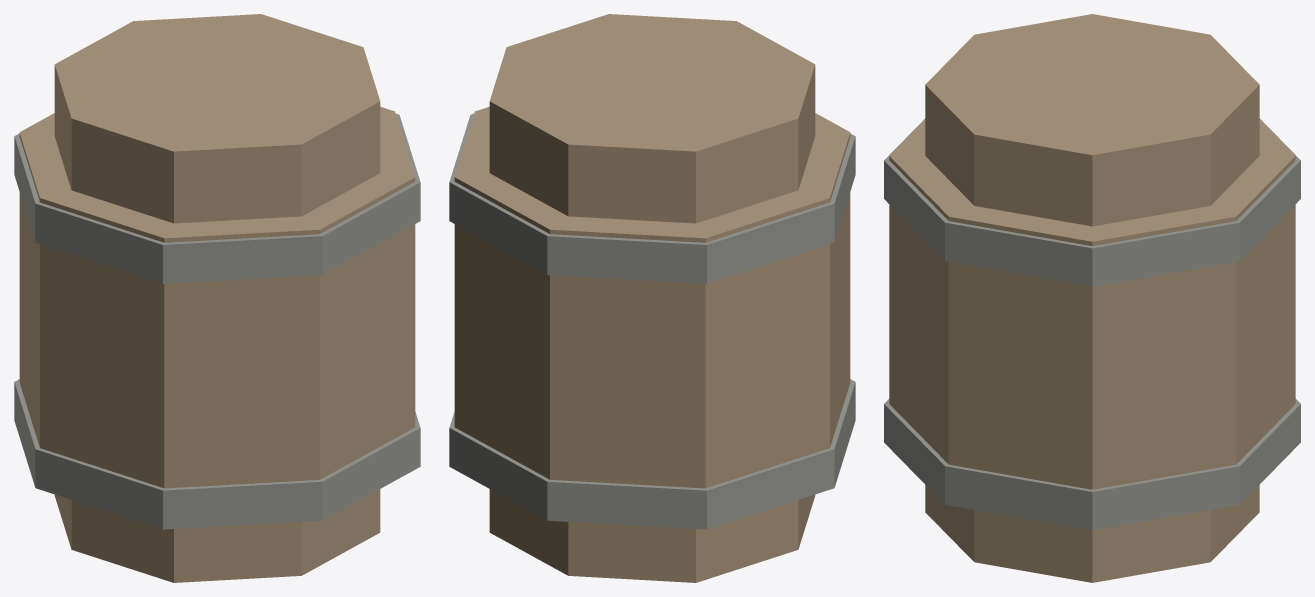
Rendered from barrel-small.glb.
3 views of the same model, side by side, from view 1: azimuth 30°, elevation 25°; view 2: azimuth 150°, elevation 25°; view 3: azimuth 270°, elevation 25° (orthographic).
Parts seen in each view (by area): view 1: barrel; view 2: barrel; view 3: barrel.
Boxes of the visible parts, x1,y1,x2,y2 form: barrel: [14, 14, 420, 582]; barrel: [449, 14, 855, 582]; barrel: [884, 14, 1300, 582].
Size of the model in its own units: 0.1696 by 0.192 by 0.1696.
